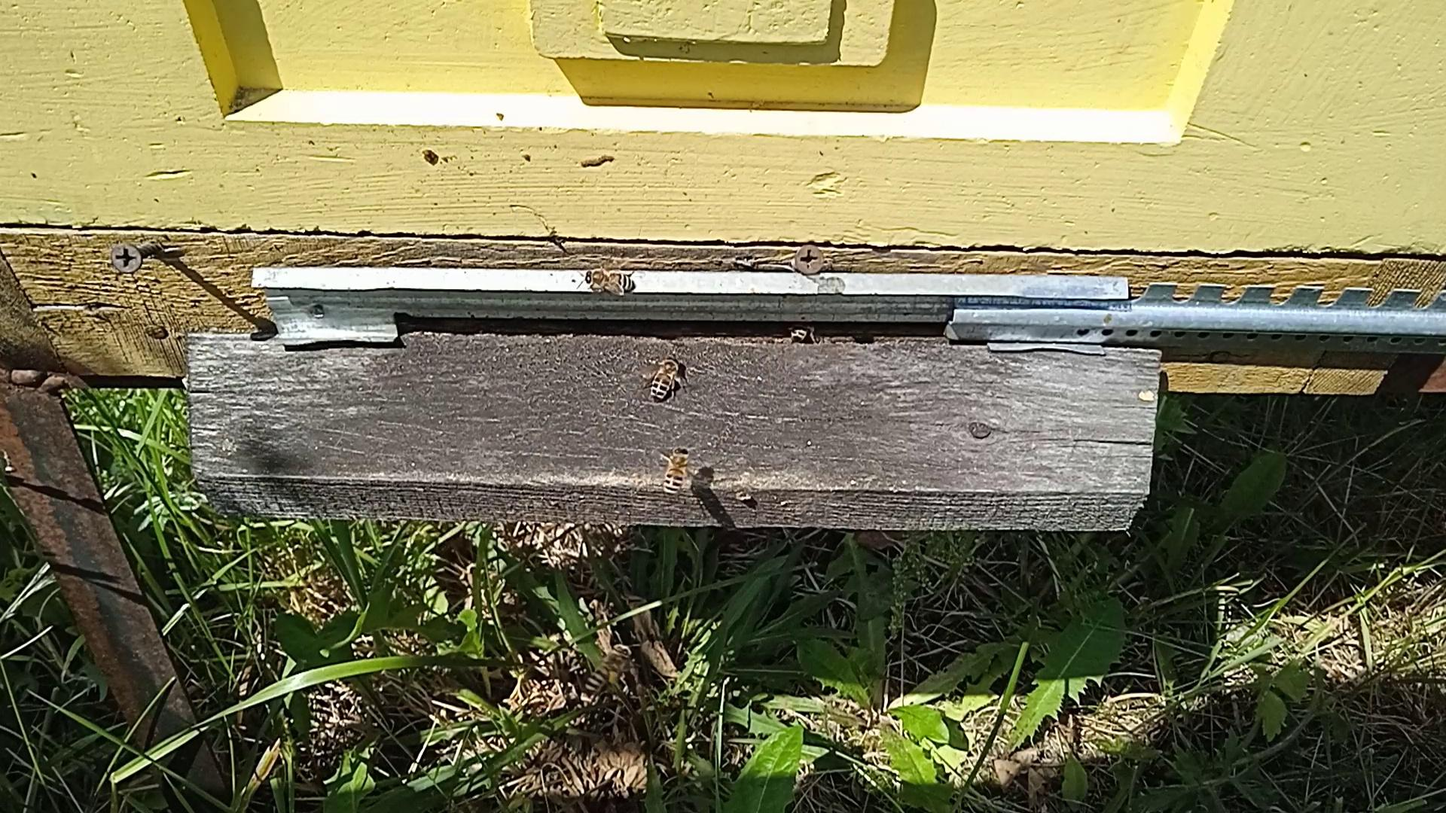worker-bee: (585, 642, 633, 694), (648, 354, 685, 402), (581, 266, 636, 295), (663, 446, 694, 496), (787, 321, 817, 343)
